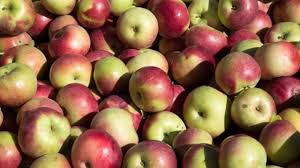apple: (16, 108, 68, 155), (184, 88, 234, 132), (168, 43, 219, 85), (93, 109, 147, 148), (127, 67, 178, 108), (231, 85, 279, 126), (54, 84, 103, 123), (216, 51, 261, 92), (143, 0, 191, 35), (4, 44, 48, 82), (73, 128, 117, 166), (141, 104, 186, 140), (122, 139, 179, 167), (218, 134, 269, 165), (50, 55, 92, 92), (252, 42, 298, 75), (258, 120, 299, 157), (2, 62, 37, 103), (53, 20, 91, 54), (185, 23, 227, 53), (119, 8, 154, 43), (217, 1, 260, 29), (94, 59, 129, 92)
